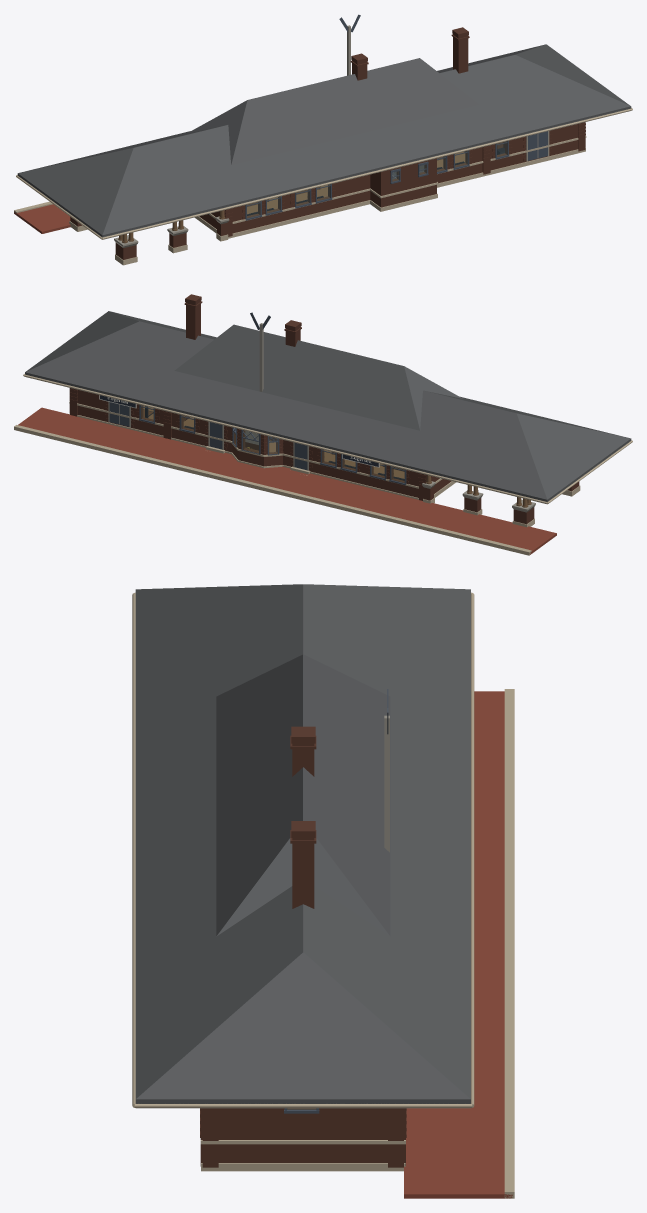
File: Edgerton_Depot.glb
3 renders of one model, top to bottom at view 1: azimuth 30°, elevation 25°; view 2: azimuth 150°, elevation 25°; view 3: azimuth 270°, elevation 25°, orthographic. The views are drawn at different scales.
Parts seen in each view (by area): view 1: roof, brick, stone, foundation, trim, glass, chimney, sash, platform, doors, wainscot, floor; view 2: roof, platform, brick, stone, foundation, glass, trim, doors, sash, chimney, wainscot, floor; view 3: roof, platform, brick, stone, foundation, chimney, trim.
Part boxes in pixels (box(x1,y1,x2,y2)): roof: box(17, 44, 631, 237); brick: box(70, 122, 585, 259); stone: box(14, 136, 586, 265); foundation: box(16, 108, 632, 239); trim: box(28, 25, 628, 247); glass: box(247, 141, 507, 218); chimney: box(350, 27, 469, 151); sash: box(208, 141, 509, 220); platform: box(14, 204, 70, 233); doors: box(339, 14, 547, 160); wainscot: box(247, 141, 507, 218); floor: box(247, 152, 465, 213); roof: box(25, 311, 631, 501); platform: box(18, 407, 556, 554); brick: box(69, 388, 579, 524); stone: box(14, 401, 580, 555); foundation: box(23, 374, 632, 504); glass: box(141, 405, 404, 482); trim: box(25, 323, 626, 512); doors: box(109, 312, 307, 470); sash: box(139, 405, 406, 485); chimney: box(184, 294, 301, 419); wainscot: box(141, 405, 404, 482); floor: box(143, 406, 404, 478); roof: box(135, 584, 470, 1103); platform: box(404, 691, 512, 1198); brick: box(200, 1108, 406, 1167); stone: box(200, 689, 514, 1198); foundation: box(132, 592, 474, 1107); chimney: box(290, 726, 316, 908); trim: box(136, 715, 470, 1108).
Bounding box in the file's own units: 1.52 × 0.4041 × 0.4793.
